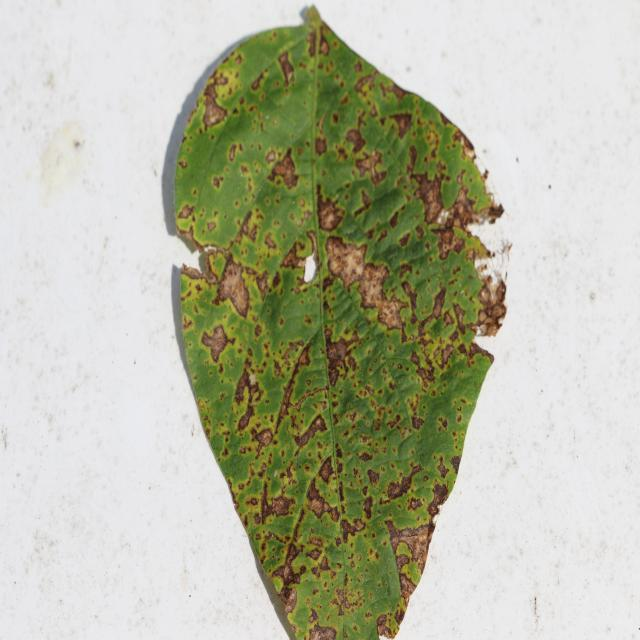Bacterial_Blight: (270, 136, 307, 204), (472, 273, 508, 337), (324, 236, 367, 289), (217, 256, 251, 319), (410, 168, 448, 222), (271, 540, 305, 590), (259, 481, 295, 522), (176, 216, 212, 256), (324, 333, 355, 378), (305, 479, 338, 521), (375, 293, 408, 335), (384, 464, 420, 501), (418, 283, 447, 328), (201, 84, 229, 129), (404, 524, 433, 565), (409, 350, 436, 389), (316, 194, 344, 230), (279, 240, 309, 271), (452, 300, 476, 336), (477, 198, 505, 224), (307, 28, 329, 60), (389, 112, 413, 139), (277, 50, 295, 85), (236, 208, 255, 241), (280, 337, 306, 361), (429, 479, 449, 510), (354, 72, 378, 97), (344, 128, 366, 154), (310, 622, 337, 640), (254, 428, 273, 452), (318, 457, 335, 483), (237, 407, 253, 432), (377, 619, 395, 639), (361, 495, 374, 519), (251, 71, 266, 91), (436, 458, 450, 479), (386, 413, 402, 431), (178, 203, 195, 219), (315, 135, 328, 155), (367, 468, 381, 486), (480, 167, 491, 186), (318, 555, 331, 571), (228, 143, 239, 161), (411, 415, 424, 430), (264, 233, 276, 249), (336, 588, 346, 606), (265, 148, 276, 164), (346, 410, 358, 423), (465, 143, 475, 158), (212, 176, 222, 188), (177, 158, 187, 169), (248, 372, 256, 385), (227, 478, 234, 492), (332, 112, 339, 124), (304, 315, 312, 325), (74, 140, 82, 148), (280, 449, 286, 457)
Soybean: (175, 10, 505, 640)
